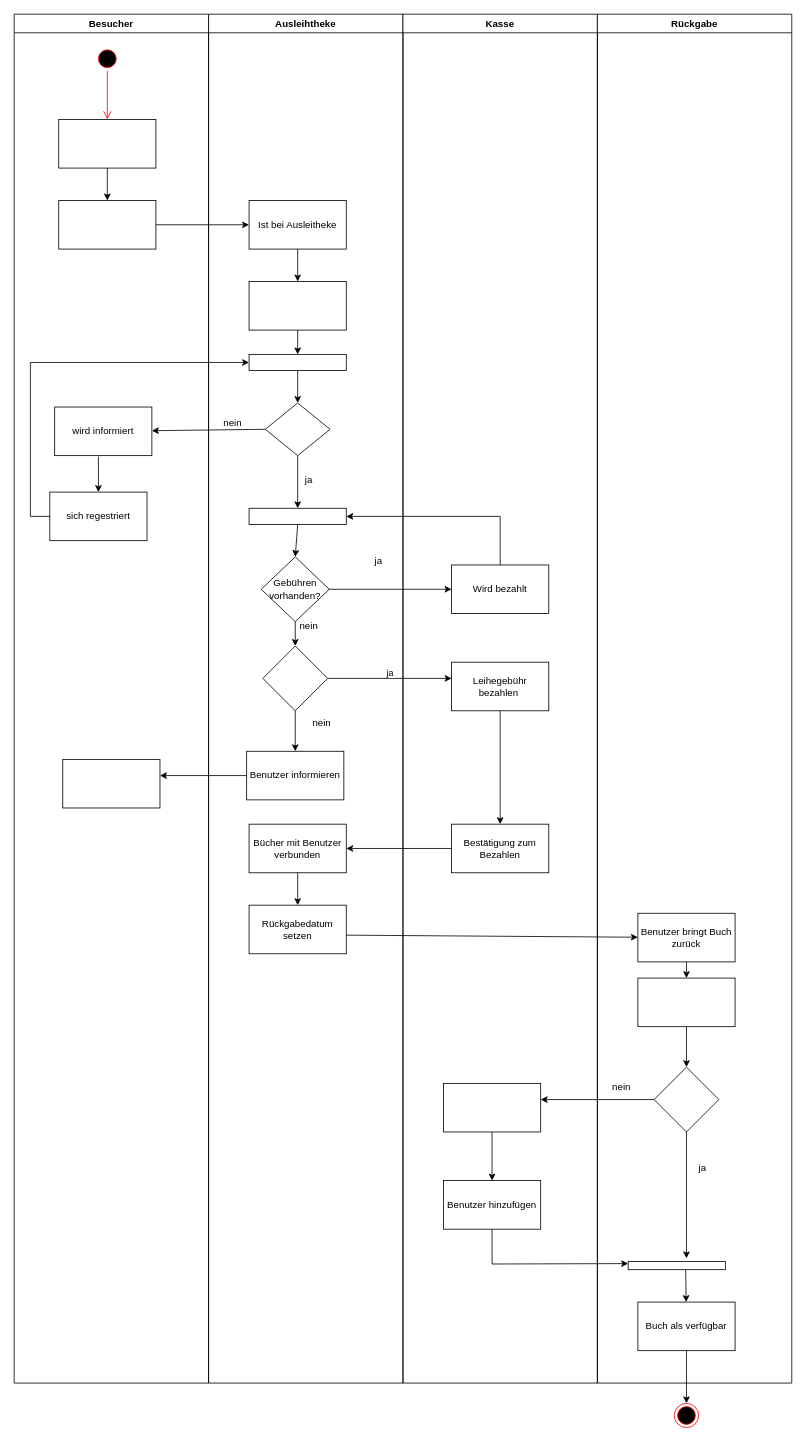
Some shapes in this 806 by 1442 pixel diagram are drawn without their labels. Here are the shapes that lost their labels. From the top down, the centre of each, then its label:
At (107,143): "Wählt Bücher aus".
At (107,224): "geht zu Ausleihtheke".
At (297,305): "Muss Bibliothekausweis vorlegen".
At (297,429): "regestriert?".
At (295,678): "Verfügbar?".
At (111,783): "Bekommt eine Nachricht".
At (686,1002): "Buch scannen".
At (492,1107): "Mahninggebühren erzeugen".
At (686,1099): "Rückgabe pünktlich?".
